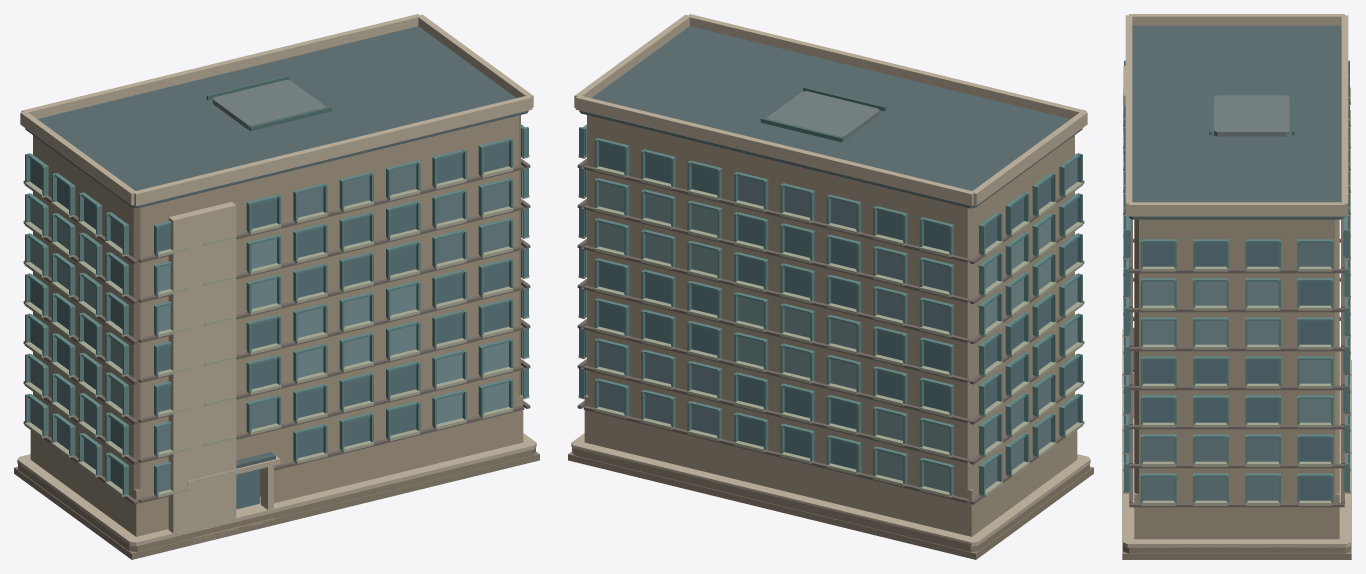
The model's file is youth.glb.
3 renders of one model, left to right at view 1: azimuth 30°, elevation 25°; view 2: azimuth 150°, elevation 25°; view 3: azimuth 270°, elevation 25°, orthographic. The views are drawn at different scales.
Visible parts, largest first — view 1: form, relief, glaze, glowing; view 2: form, relief, glaze, glowing; view 3: form, glaze, relief, glowing.
Boxes of the visible parts, x1=… form: form: x1=14, y1=14, x2=539, y2=559; relief: x1=24, y1=124, x2=529, y2=497; glaze: x1=30, y1=142, x2=523, y2=509; glowing: x1=30, y1=130, x2=523, y2=473; form: x1=568, y1=14, x2=1093, y2=559; relief: x1=578, y1=124, x2=1083, y2=497; glaze: x1=584, y1=130, x2=1077, y2=492; glowing: x1=599, y1=142, x2=1050, y2=453; form: x1=1122, y1=14, x2=1351, y2=559; glaze: x1=1129, y1=219, x2=1344, y2=500; relief: x1=1123, y1=60, x2=1350, y2=505; glowing: x1=1143, y1=219, x2=1344, y2=500.
Size of the model in its own units: 20 by 17 by 10.
